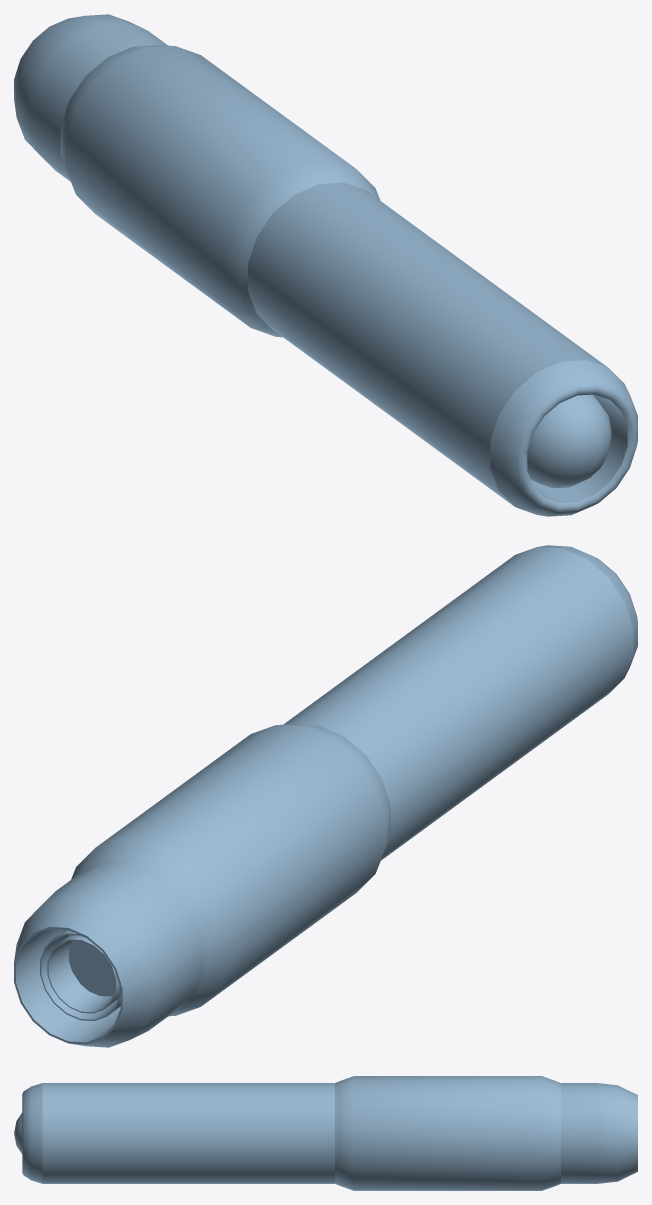
File: nose engine.FBX
3 renders of one model, top to bottom at view 1: azimuth 30°, elevation 25°; view 2: azimuth 150°, elevation 25°; view 3: azimuth 270°, elevation 25°, orthographic. The views are drawn at different scales.
Parts seen in each view (by area): view 1: nose engine; view 2: nose engine; view 3: nose engine.
Part boxes in pixels (x1,y1,x2,y2): nose engine: (14,14,637,516); nose engine: (14,545,637,1047); nose engine: (14,1076,637,1190).
Size of the model in its own units: 0.0182 by 0.1 by 0.0185.
